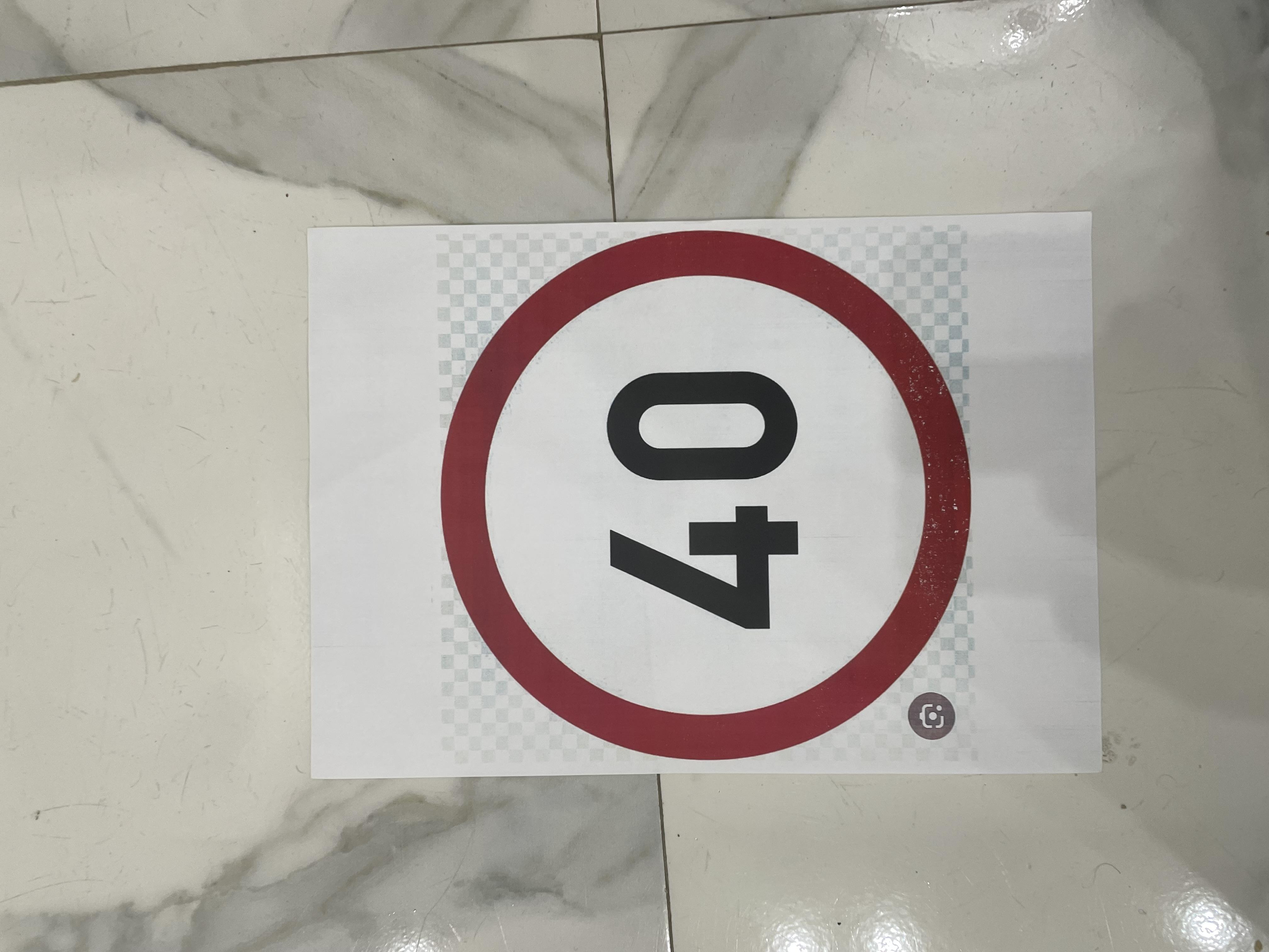40-Speed: (219, 307, 1023, 749)
